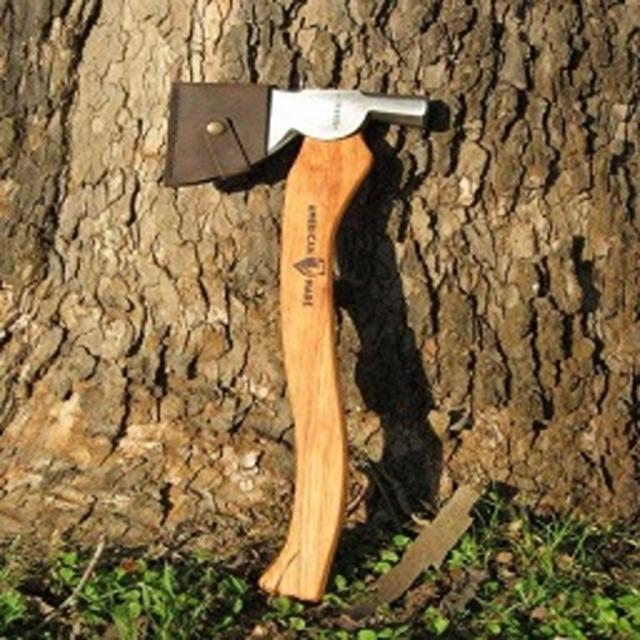ax: (148, 65, 442, 615)
